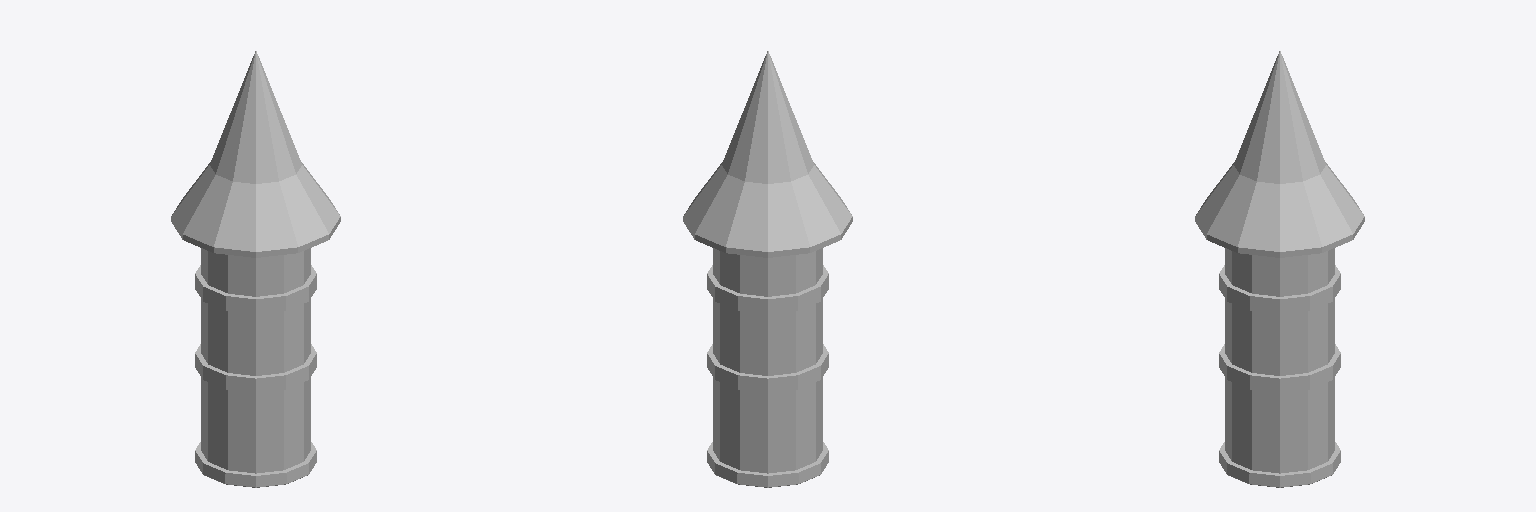
Rendered from Basic_firework.obj.
3 views of the same model, side by side, from view 1: azimuth 30°, elevation 25°; view 2: azimuth 150°, elevation 25°; view 3: azimuth 270°, elevation 25° (orthographic).
Visible parts, largest first — view 1: pCylinder1; view 2: pCylinder1; view 3: pCylinder1.
Boxes of the visible parts, x1,y1,x2,y2 form: pCylinder1: [171, 51, 340, 487]; pCylinder1: [683, 51, 852, 487]; pCylinder1: [1195, 51, 1364, 487].
Bounding box in the file's own units: 0.5743 × 1.54 × 0.5743.